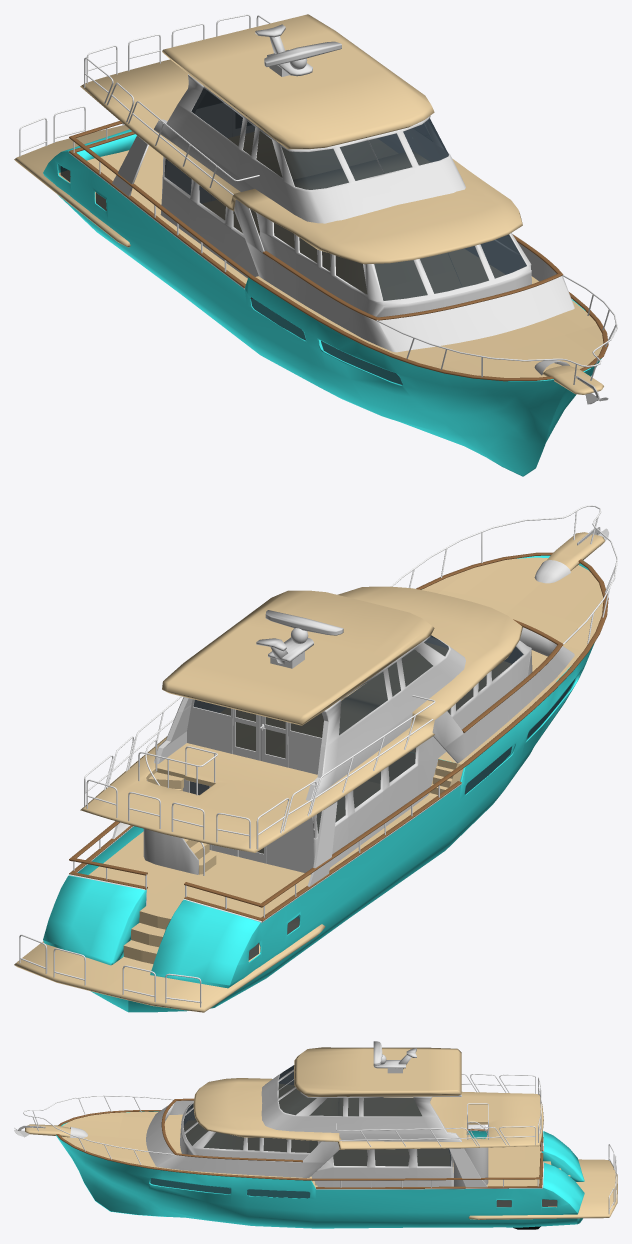
The model's file is Marlow66.obj.
The picture shows the model from 3 angles, top to bottom: view 1: azimuth 30°, elevation 25°; view 2: azimuth 150°, elevation 25°; view 3: azimuth 270°, elevation 25°; orthographic projection. The views are drawn at different scales.
Visible parts, largest first — view 1: Hull_Plane, Cabin_Cube, FloorSecond_Cube.002, FloorTop_Cube.003, CabinTop_Cube.001, FloorFirst_Plane.002, TopCabinWindows_Cube.005, Cabin.Windows_Cube.004, DarkWoodTrim_BezierCurve.027, HullBottom_Plane.003, Platform_Plane.001, ChromeHandRailsSide_BezierCurve.035 (+5 smaller); view 2: Hull_Plane, FloorSecond_Cube.002, FloorTop_Cube.003, Cabin_Cube, HullBottom_Plane.003, FloorFirst_Plane.002, BackWalls_Plane.014, CabinTop_Cube.001, Platform_Plane.001, DarkWoodTrim_BezierCurve.027, ChromeHandRailsSide_BezierCurve.035, TopCabinWindows_Cube.005 (+9 smaller); view 3: Hull_Plane, FloorSecond_Cube.002, Cabin_Cube, FloorTop_Cube.003, CabinTop_Cube.001, FloorFirst_Plane.002, HullBottom_Plane.003, Cabin.Windows_Cube.004, DarkWoodTrim_BezierCurve.027, Platform_Plane.001, TopCabinWindows_Cube.005, ChromeHandRailsSide_BezierCurve.035 (+6 smaller).
Part boxes in pixels (x1=…): Hull_Plane: x1=43, y1=129, x2=601, y2=476; Cabin_Cube: x1=112, y1=135, x2=574, y2=375; FloorSecond_Cube.002: x1=80, y1=59, x2=522, y2=264; FloorTop_Cube.003: x1=162, y1=14, x2=434, y2=149; CabinTop_Cube.001: x1=154, y1=74, x2=465, y2=223; FloorFirst_Plane.002: x1=255, y1=249, x2=603, y2=377; TopCabinWindows_Cube.005: x1=191, y1=88, x2=448, y2=189; Cabin.Windows_Cube.004: x1=164, y1=159, x2=526, y2=300; DarkWoodTrim_BezierCurve.027: x1=69, y1=121, x2=608, y2=381; HullBottom_Plane.003: x1=87, y1=145, x2=337, y2=298; Platform_Plane.001: x1=14, y1=125, x2=130, y2=247; ChromeHandRailsSide_BezierCurve.035: x1=84, y1=15, x2=617, y2=384; Hull_Plane: x1=43, y1=555, x2=594, y2=1012; FloorSecond_Cube.002: x1=80, y1=586, x2=522, y2=852; FloorTop_Cube.003: x1=162, y1=590, x2=434, y2=725; Cabin_Cube: x1=112, y1=560, x2=574, y2=886; HullBottom_Plane.003: x1=89, y1=752, x2=463, y2=964; FloorFirst_Plane.002: x1=411, y1=557, x2=603, y2=764; BackWalls_Plane.014: x1=183, y1=699, x2=323, y2=874; CabinTop_Cube.001: x1=154, y1=636, x2=465, y2=800; Platform_Plane.001: x1=14, y1=918, x2=325, y2=1012; DarkWoodTrim_BezierCurve.027: x1=69, y1=552, x2=608, y2=921; ChromeHandRailsSide_BezierCurve.035: x1=84, y1=505, x2=617, y2=849; TopCabinWindows_Cube.005: x1=339, y1=635, x2=448, y2=734; Hull_Plane: x1=56, y1=1111, x2=584, y2=1228; FloorSecond_Cube.002: x1=193, y1=1078, x2=543, y2=1149; Cabin_Cube: x1=70, y1=1100, x2=487, y2=1187; FloorTop_Cube.003: x1=294, y1=1047, x2=461, y2=1096; CabinTop_Cube.001: x1=261, y1=1069, x2=461, y2=1141; FloorFirst_Plane.002: x1=62, y1=1111, x2=309, y2=1178; HullBottom_Plane.003: x1=309, y1=1138, x2=570, y2=1187; Cabin.Windows_Cube.004: x1=183, y1=1103, x2=451, y2=1166; DarkWoodTrim_BezierCurve.027: x1=56, y1=1098, x2=543, y2=1188; Platform_Plane.001: x1=468, y1=1159, x2=617, y2=1219; TopCabinWindows_Cube.005: x1=278, y1=1065, x2=421, y2=1116; ChromeHandRailsSide_BezierCurve.035: x1=23, y1=1073, x2=535, y2=1164.
Size of the model in its own units: 5.67 by 7.28 by 22.48.
